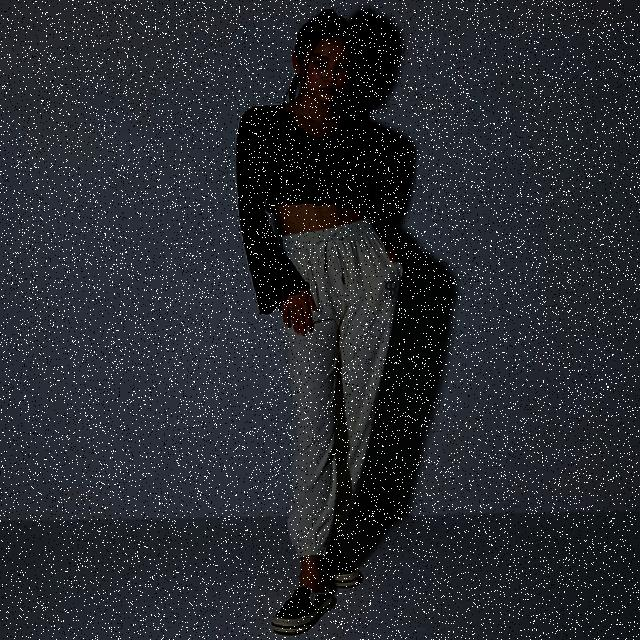Blouse_deep: (236, 101, 413, 322)
